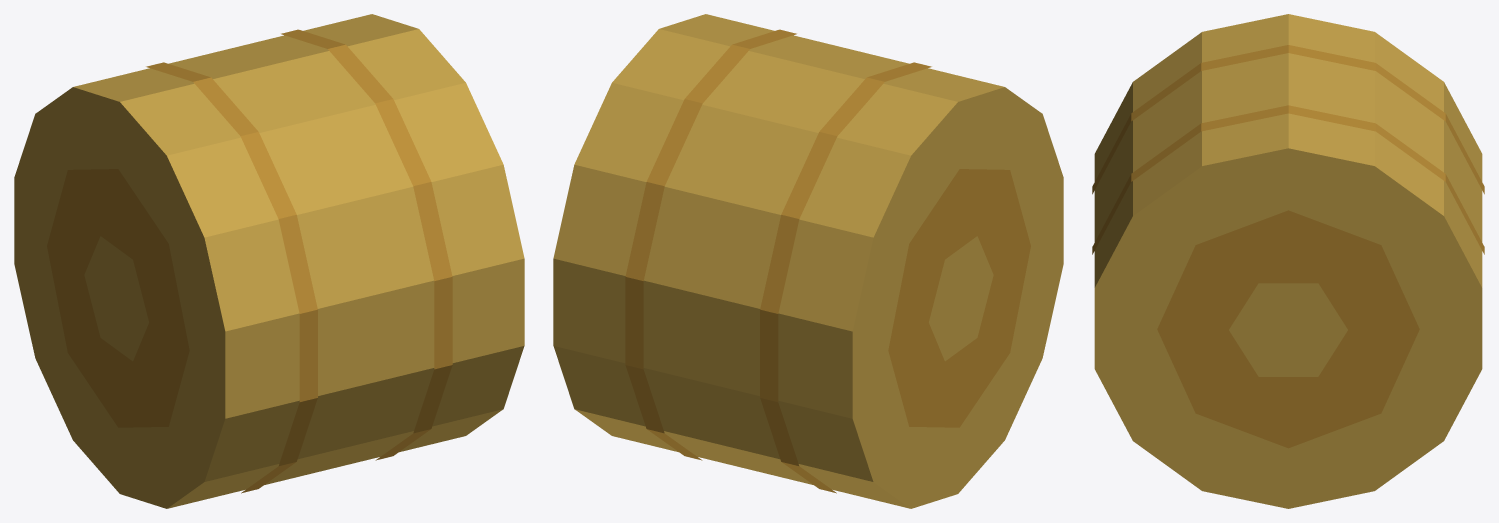
Rendered from bale.glb.
3 renders of one model, left to right at view 1: azimuth 30°, elevation 25°; view 2: azimuth 150°, elevation 25°; view 3: azimuth 270°, elevation 25°, orthographic. The views are drawn at different scales.
Parts seen in each view (by area): view 1: bale; view 2: bale; view 3: bale.
Part boxes in pixels (x1=…): bale: x1=14, y1=14, x2=524, y2=508; bale: x1=553, y1=14, x2=1063, y2=508; bale: x1=1092, y1=14, x2=1484, y2=508.
Bounding box in the file's own units: 1.17 × 1.45 × 1.42.
